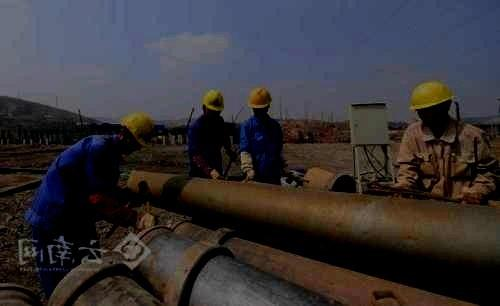helmet: (407, 79, 455, 130), (117, 111, 156, 154), (246, 85, 272, 121), (201, 89, 225, 122)
